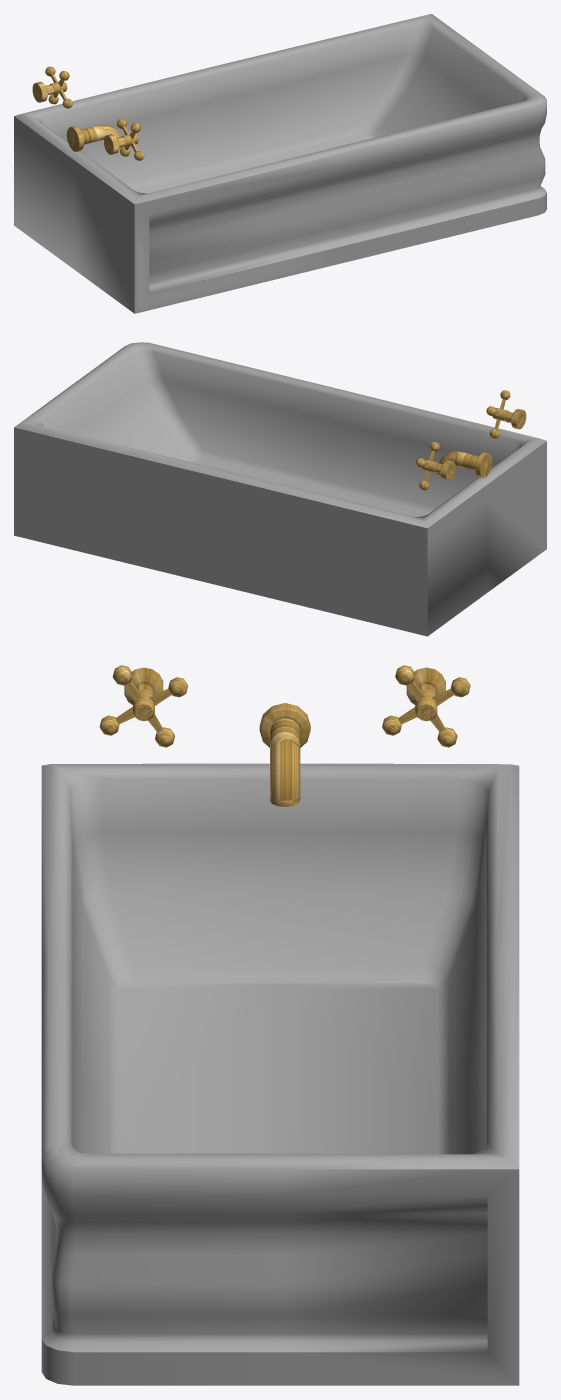
Rendered from Bathroom_Tub.fbx.
3 views of the same model, one above another, from view 1: azimuth 30°, elevation 25°; view 2: azimuth 150°, elevation 25°; view 3: azimuth 270°, elevation 25° (orthographic). The views are drawn at different scales.
Parts seen in each view (by area): view 1: TubUVd:polySurface98; view 2: TubUVd:polySurface98; view 3: TubUVd:polySurface98.
Part boxes in pixels (x1,y1,x2,y2): TubUVd:polySurface98: (14,14,546,313); TubUVd:polySurface98: (14,342,546,636); TubUVd:polySurface98: (41,665,519,1385).
Bounding box in the file's own units: 4 × 1.56 × 2.
